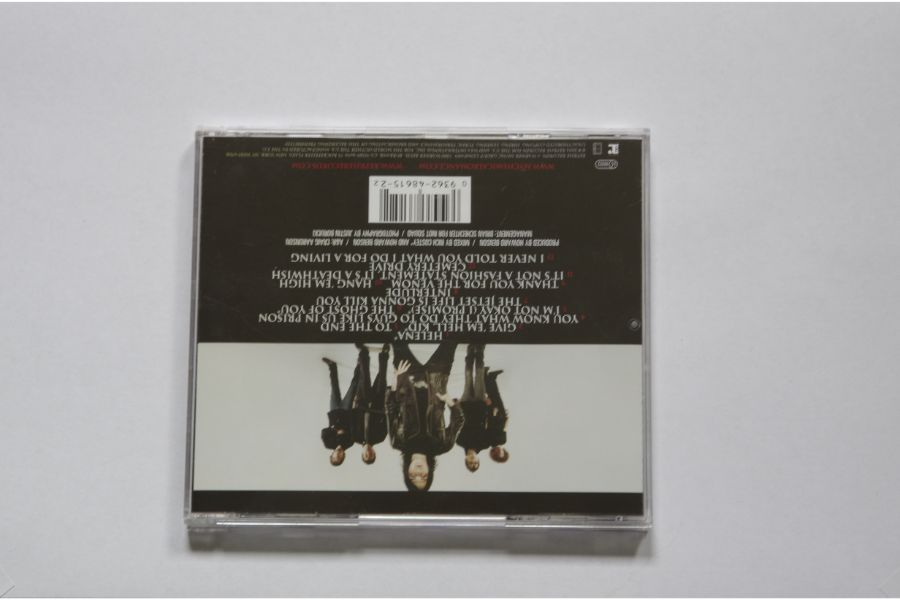album: (181, 125, 652, 534)
